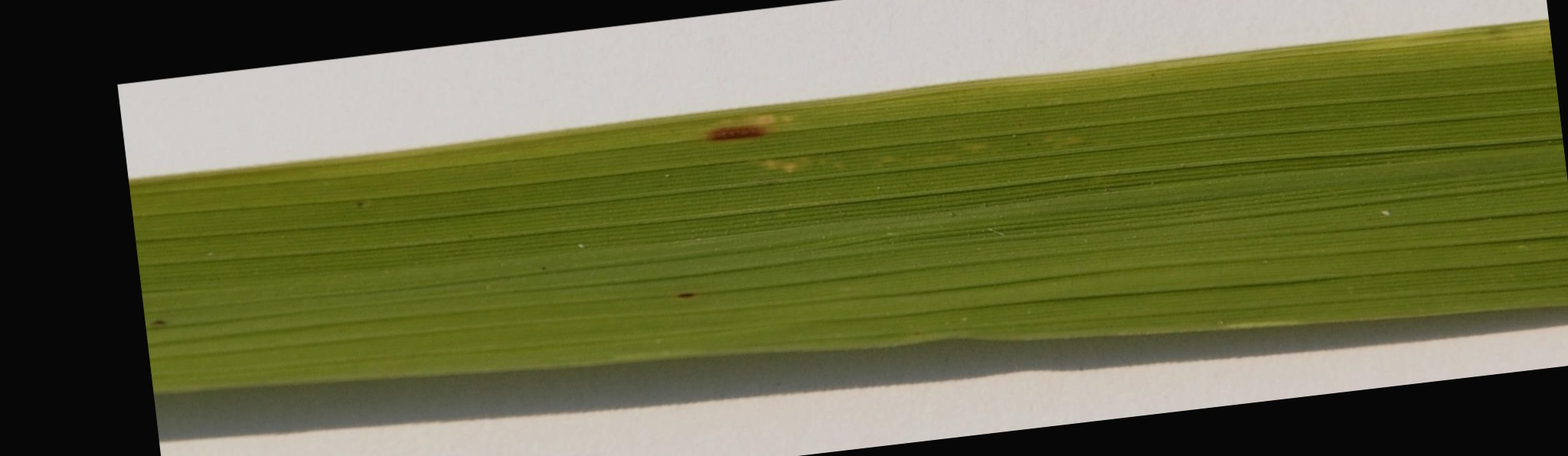Bacterial_Leaf_Blight: (665, 114, 801, 164)
